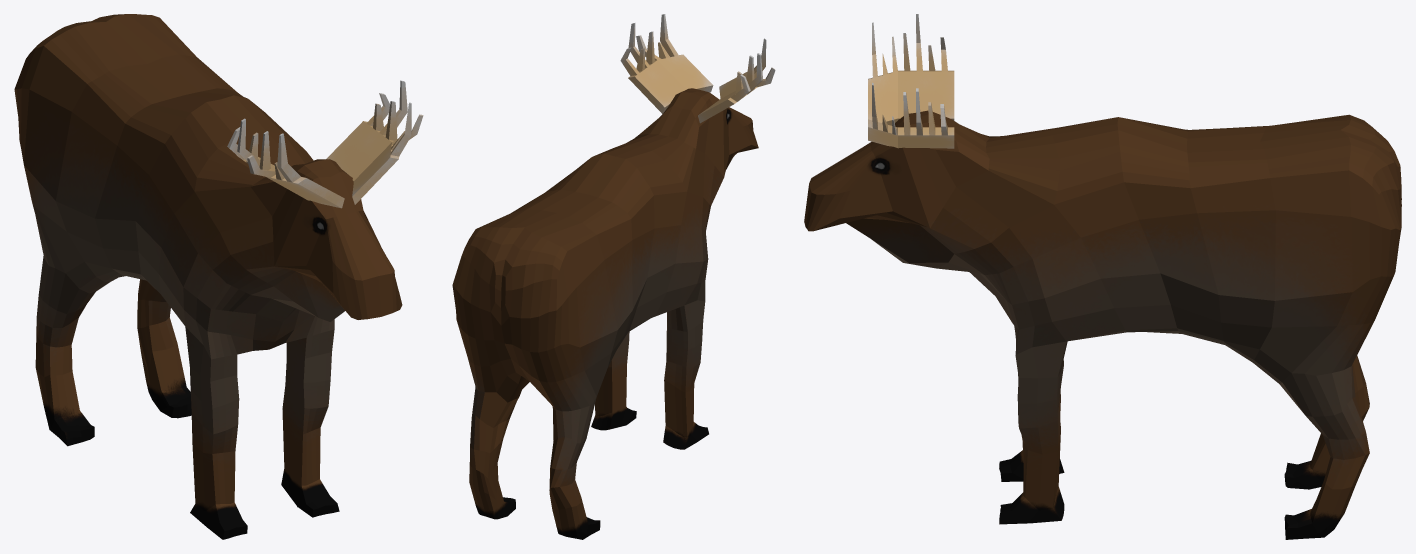
Rendered from moose.fbx.
The picture shows the model from 3 angles, left to right: view 1: azimuth 30°, elevation 25°; view 2: azimuth 150°, elevation 25°; view 3: azimuth 270°, elevation 25°; orthographic projection. The views are drawn at different scales.
Visible parts, largest first — view 1: moose; view 2: moose; view 3: moose.
Boxes of the visible parts, x1=… form: moose: x1=14, y1=14, x2=423, y2=539; moose: x1=452, y1=14, x2=775, y2=539; moose: x1=804, y1=14, x2=1401, y2=539.
Bounding box in the file's own units: 240 × 79.71 × 202.
Materials: 2 (2 with a texture image).
